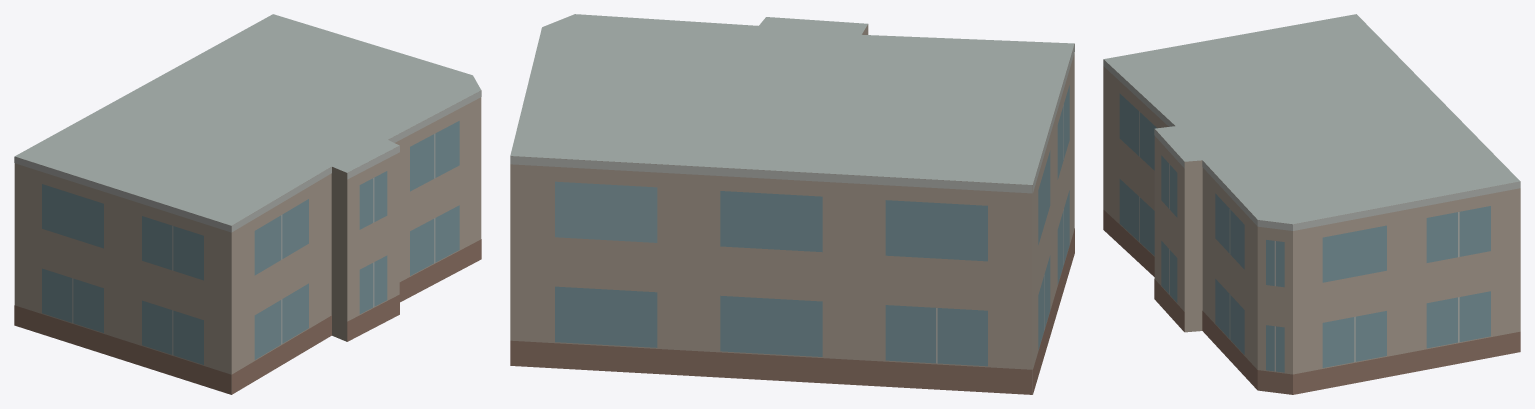
Rendered from survey-upis-32687555.glb.
3 renders of one model, left to right at view 1: azimuth 30°, elevation 25°; view 2: azimuth 150°, elevation 25°; view 3: azimuth 270°, elevation 25°, orthographic. The views are drawn at different scales.
Visible parts, largest first — view 1: survey-upis-32687555.tmp; view 2: survey-upis-32687555.tmp; view 3: survey-upis-32687555.tmp.
Boxes of the visible parts, <box> form: survey-upis-32687555.tmp: <box>14,14,481,394</box>; survey-upis-32687555.tmp: <box>510,14,1074,394</box>; survey-upis-32687555.tmp: <box>1103,14,1520,394</box>.
Bounding box in the file's own units: 16.13 × 6.1 × 13.53.
